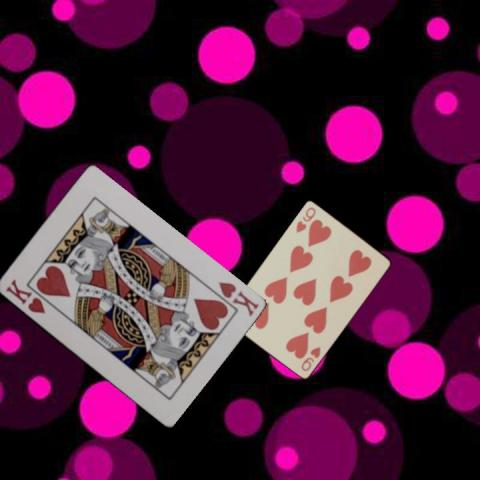9h: (293, 204, 317, 234), (298, 343, 322, 373)
Kh: (2, 276, 47, 315), (215, 279, 260, 318)
